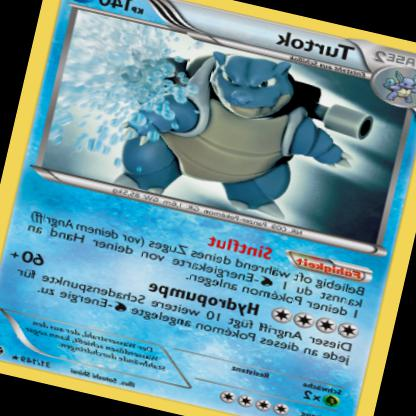Blastoise: (100, 28, 377, 237)
